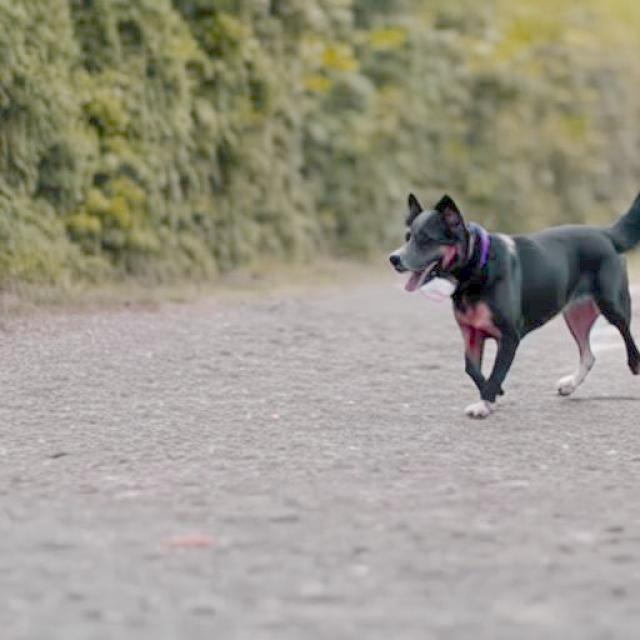Dog: (389, 190, 640, 420)
